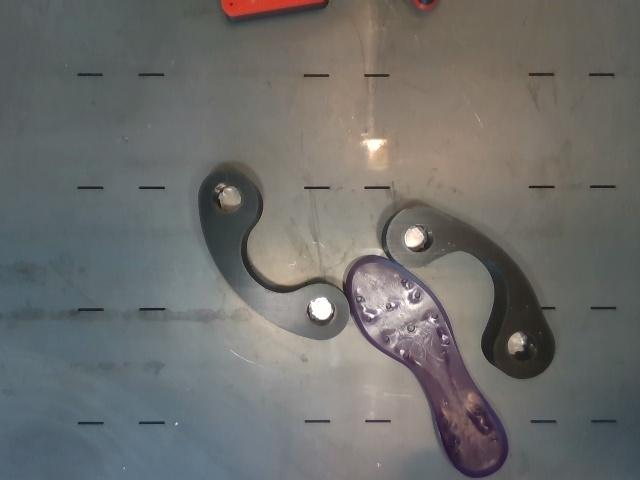shoes: (346, 256, 507, 477)
